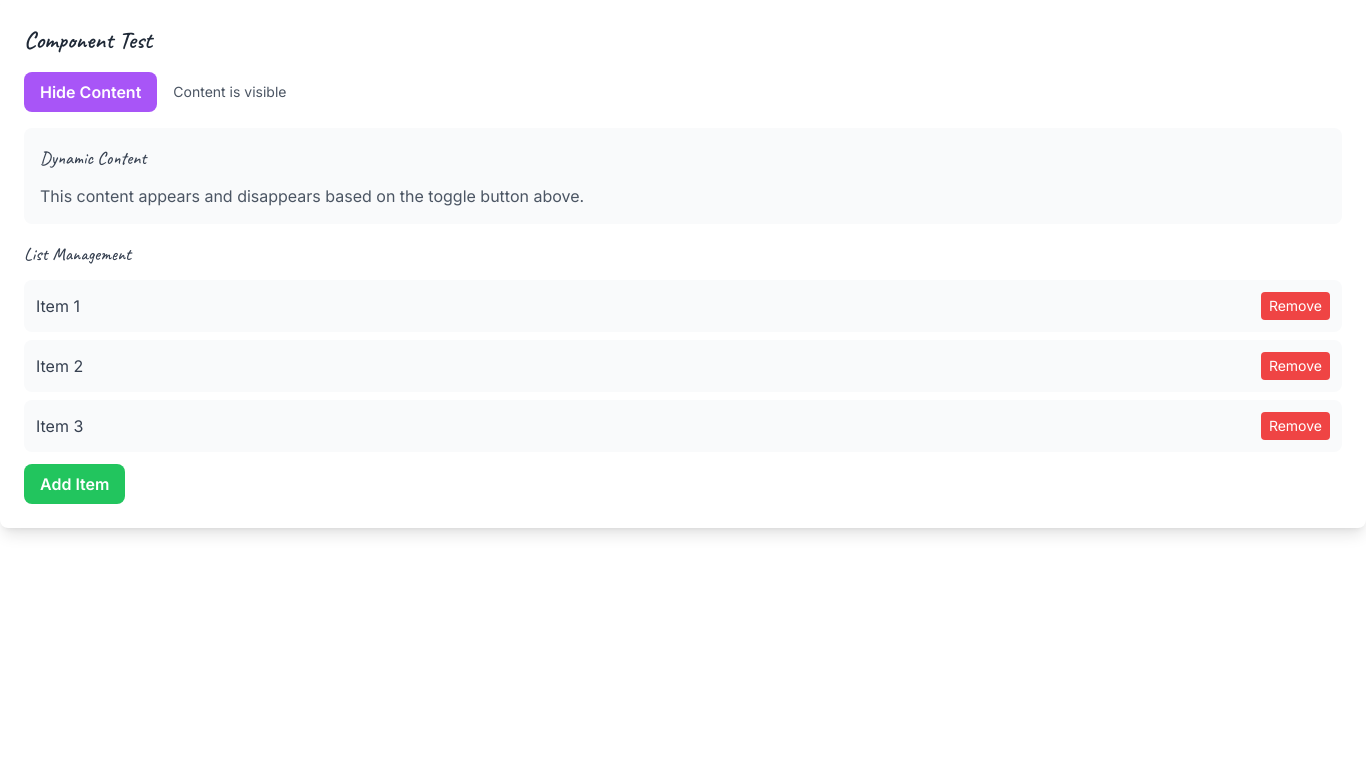
Scenario: TestComponent › adds new items to the list
Click the button "Add Item": (75,484) [24,464,125,504]
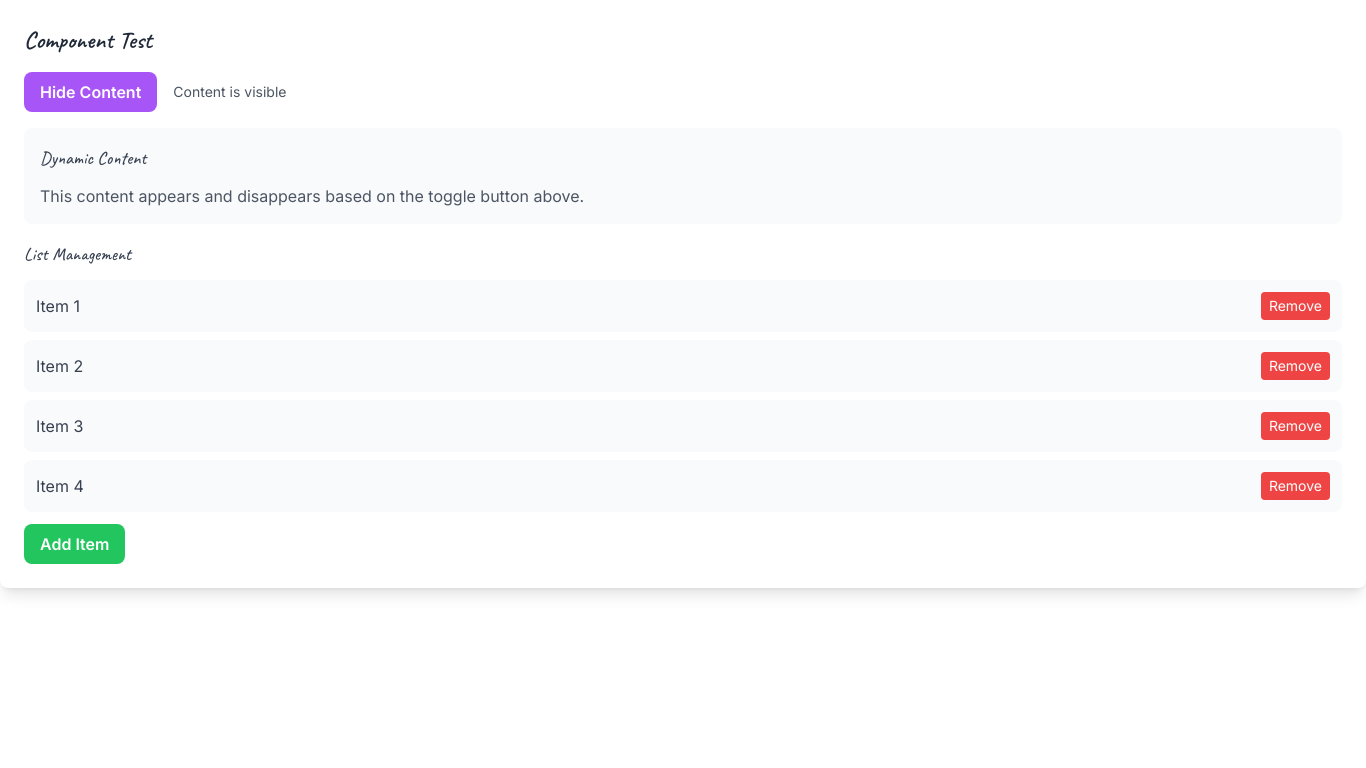
expect the text "Item 4" is shown: met, box [36,474,84,498]
Click the button "Add Item": (75,544) [24,524,125,564]
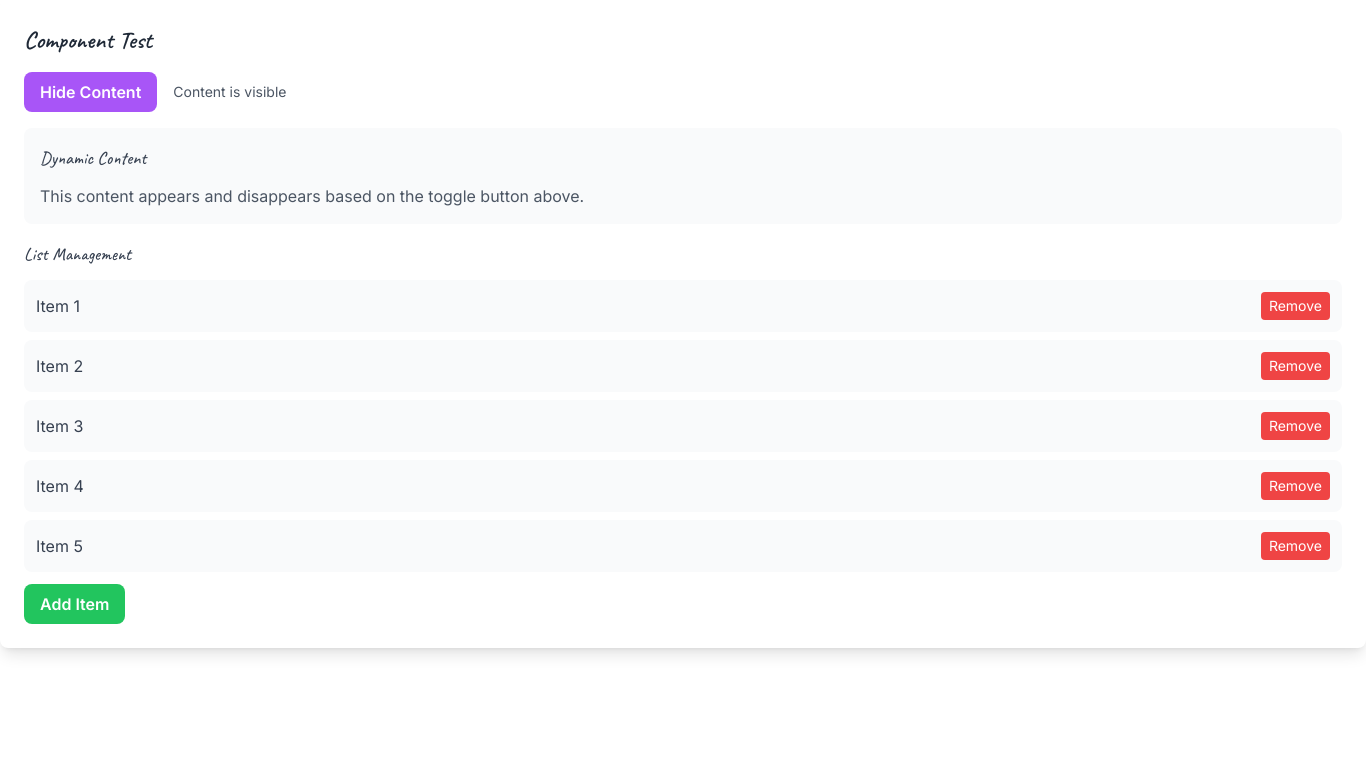
expect the text "Item 5" is shown: met, box [36,534,83,558]
